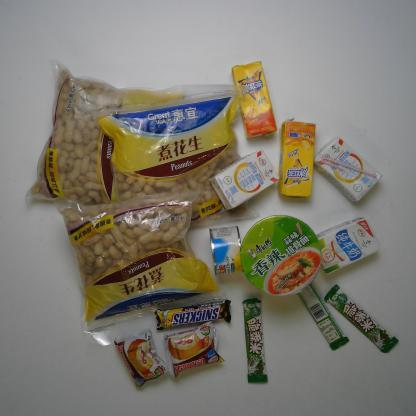Canned Food: (206, 223, 248, 281)
Chocolate: (320, 283, 402, 358), (289, 268, 351, 355), (150, 293, 236, 335), (240, 296, 271, 386)
Dessert: (107, 326, 170, 392), (158, 320, 227, 380)
Dried Food: (51, 184, 226, 348), (19, 58, 202, 214), (90, 85, 267, 238)
Drink: (275, 115, 322, 203), (231, 58, 277, 142)
Instant Noodles: (240, 211, 328, 299)
Milk: (315, 133, 385, 208), (308, 213, 380, 279), (209, 147, 280, 213)
